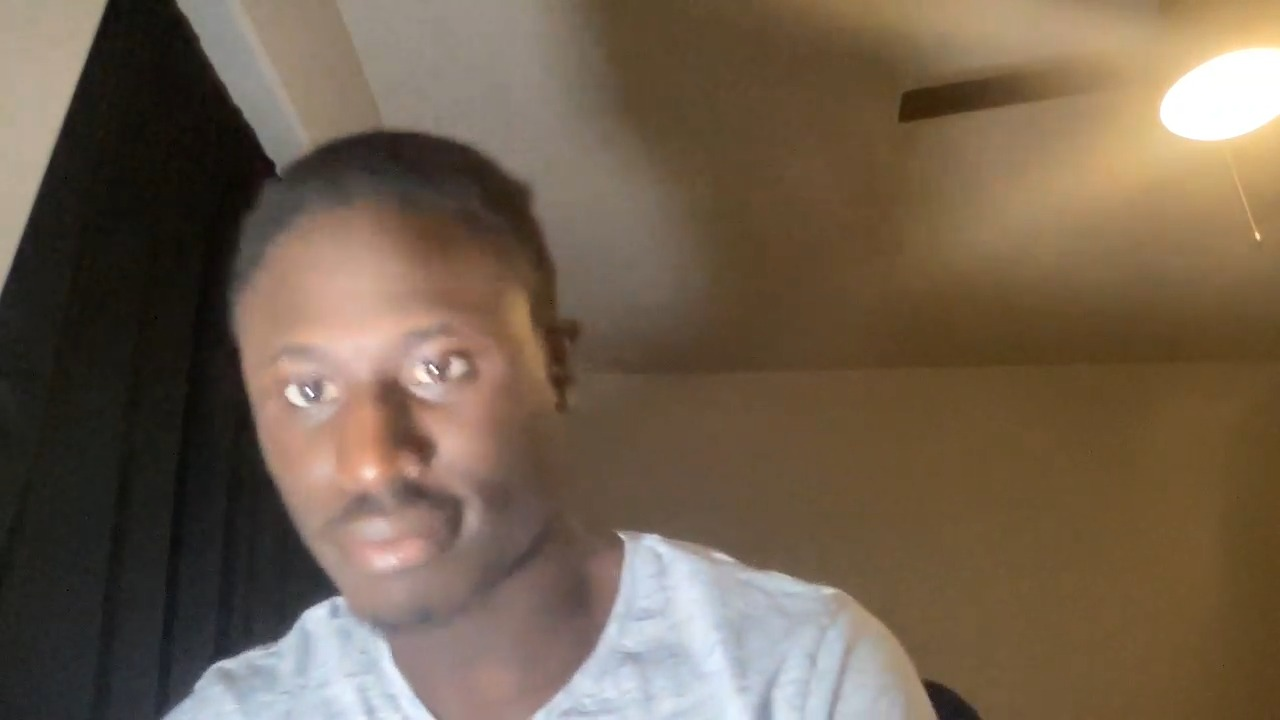face: (226, 141, 578, 627)
